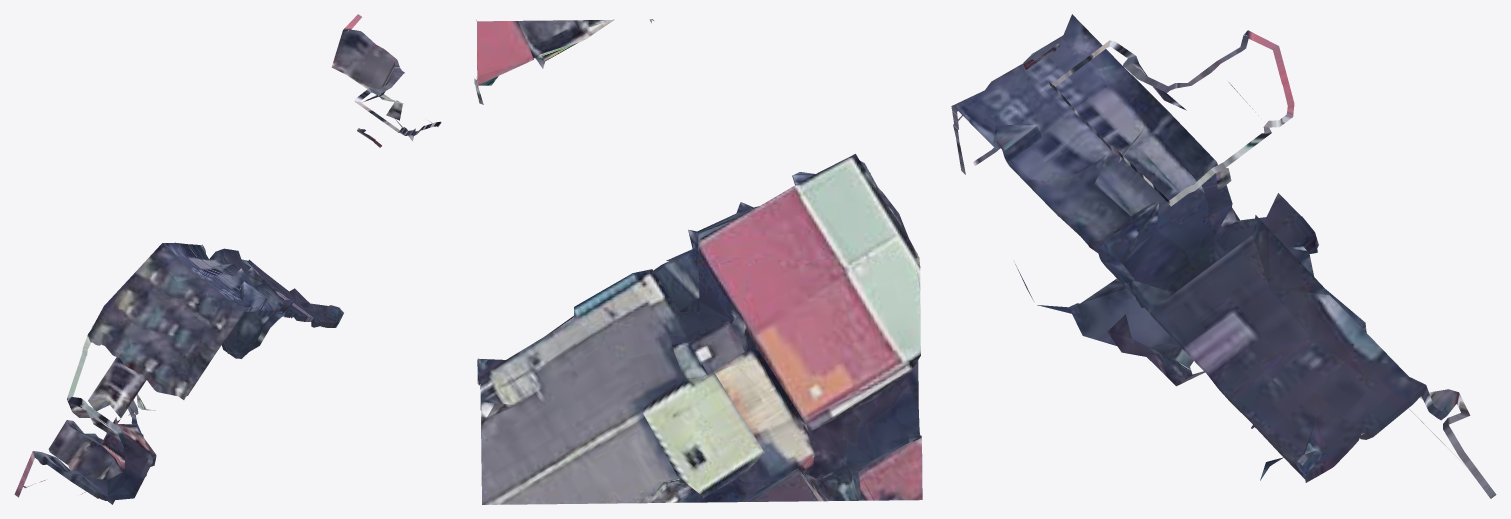
3 views of the same model, side by side, from view 1: azimuth 30°, elevation 25°; view 2: azimuth 150°, elevation 25°; view 3: azimuth 270°, elevation 25° (orthographic). The views are drawn at different scales.
Size of the model in its own units: 41.84 by 38.91 by 33.84.
1 material, 1 textured.
